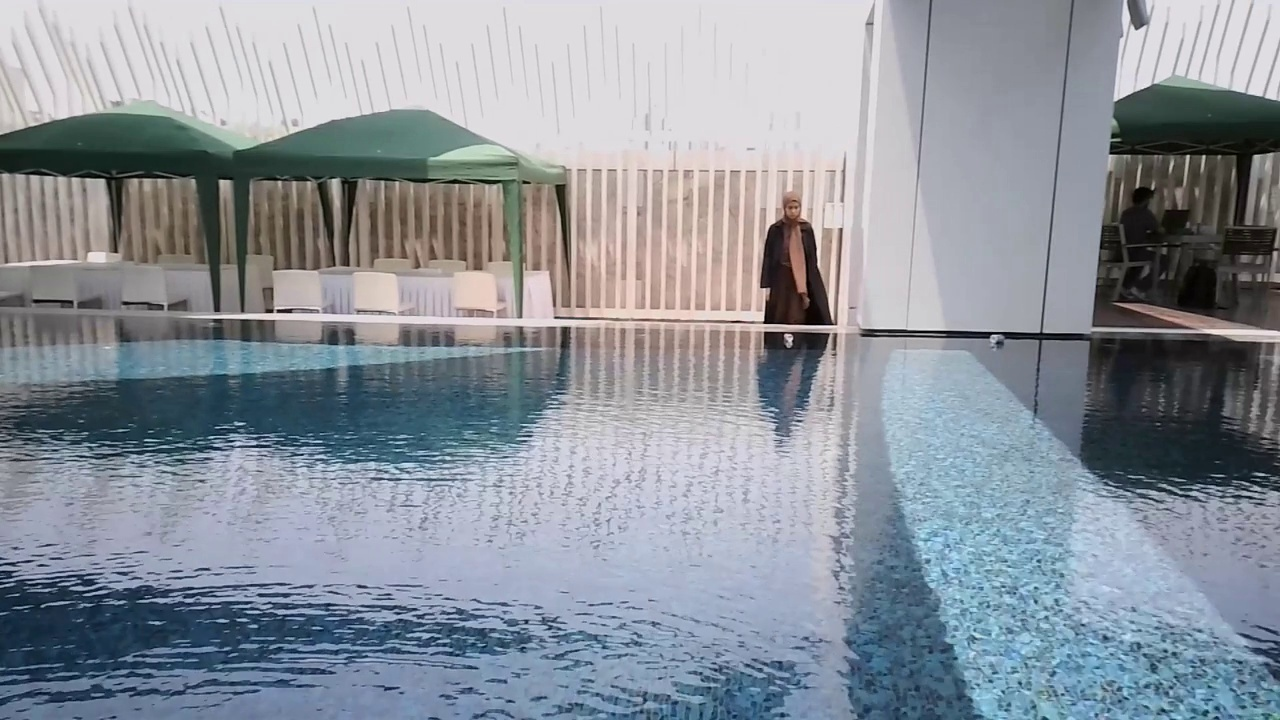debris: (988, 329, 1008, 350), (782, 330, 797, 348)
